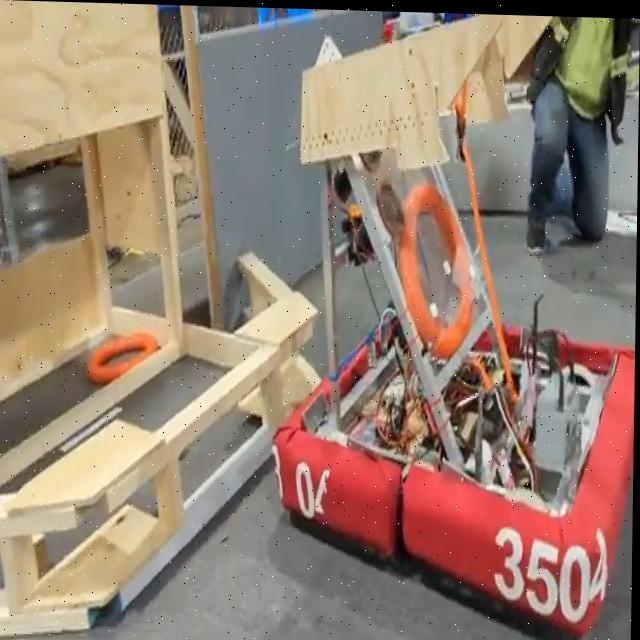note: (402, 180, 477, 355), (89, 329, 161, 384)
robot: (270, 6, 638, 637)
